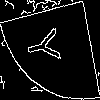Y: (25, 25, 69, 66)
